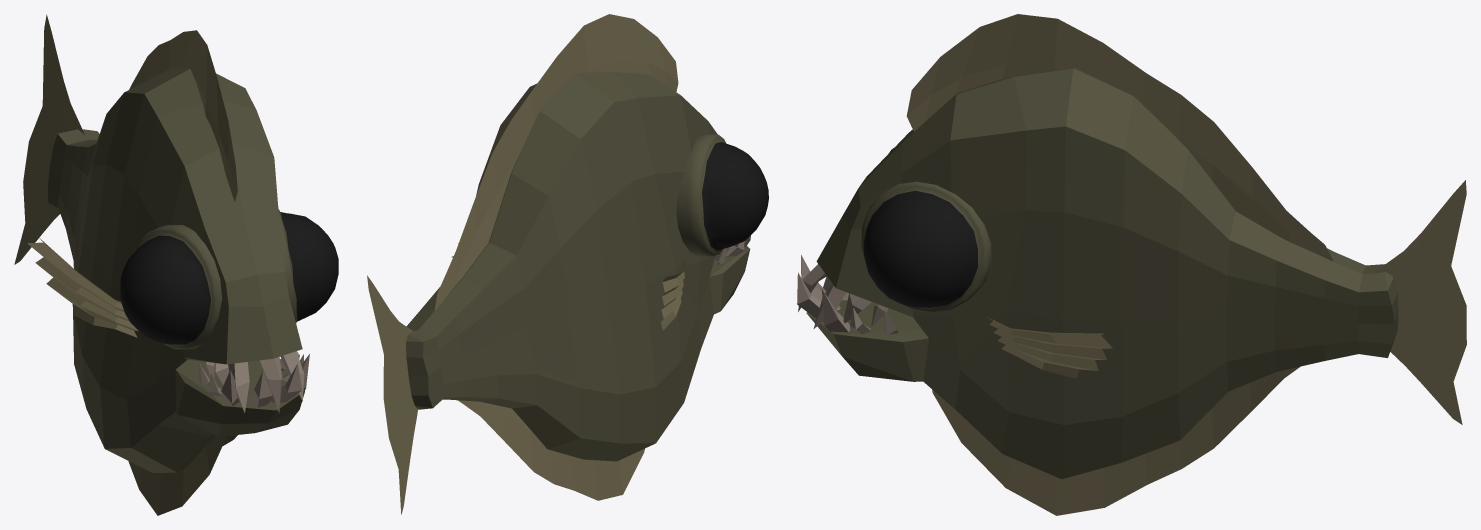
File: Turbot.glb
3 renders of one model, left to right at view 1: azimuth 30°, elevation 25°; view 2: azimuth 150°, elevation 25°; view 3: azimuth 270°, elevation 25°, orthographic. The views are drawn at different scales.
Visible parts, largest first — view 1: Turbot.001_Cube.000; view 2: Turbot.001_Cube.000; view 3: Turbot.001_Cube.000.
Part boxes in pixels (box(x1,y1,x2,y2)): Turbot.001_Cube.000: box(14, 14, 338, 515); Turbot.001_Cube.000: box(367, 14, 768, 514); Turbot.001_Cube.000: box(797, 14, 1466, 515).
Size of the model in its own units: 2.06 by 3.92 by 4.58.
